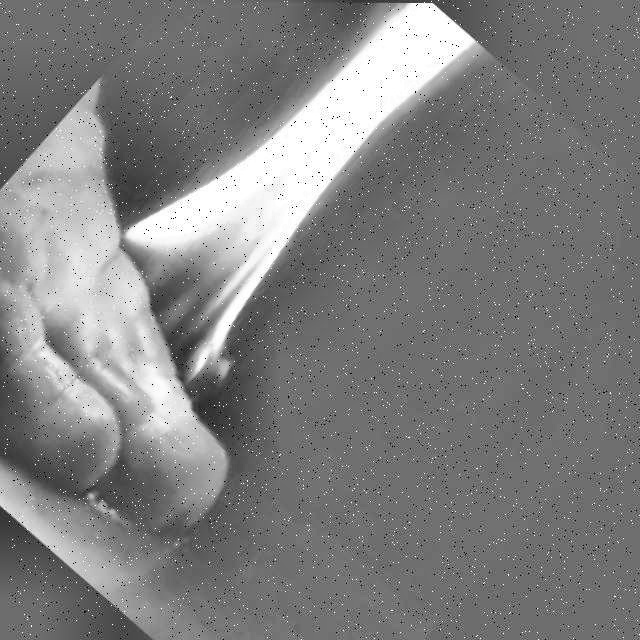Fire: (61, 1, 510, 403)
